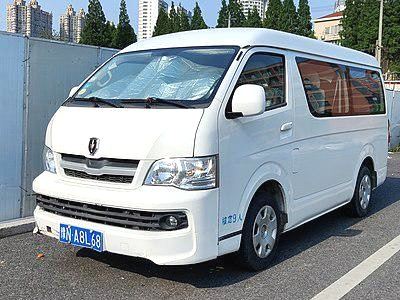van: (36, 29, 393, 270)
